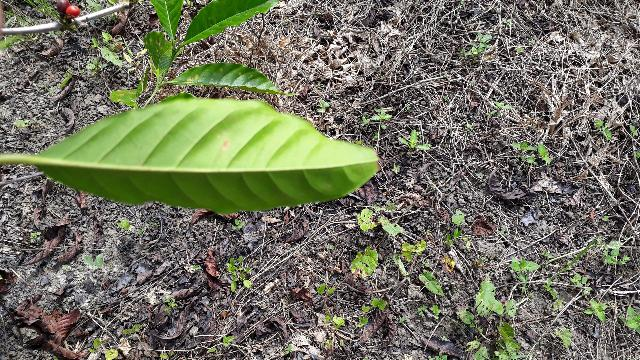rust_level_1: (33, 92, 386, 218)
